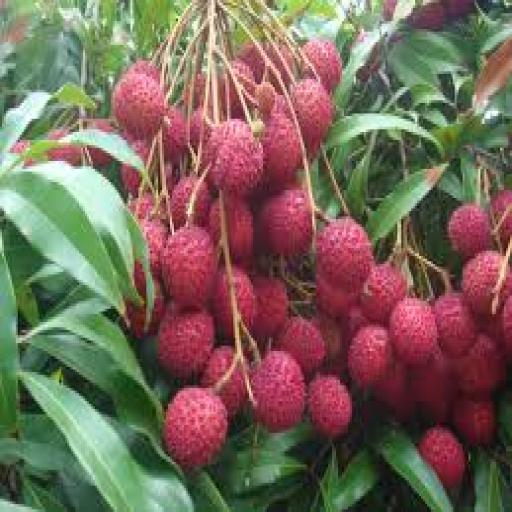lychee: (165, 388, 227, 469), (161, 227, 215, 308), (206, 119, 262, 197), (252, 352, 306, 432), (317, 217, 373, 290), (159, 309, 215, 380), (113, 72, 166, 139), (259, 188, 312, 255), (410, 349, 456, 424), (261, 109, 302, 190), (461, 251, 511, 316), (291, 80, 334, 155), (453, 336, 506, 395), (390, 299, 438, 364), (212, 267, 256, 337), (275, 317, 326, 377), (418, 428, 466, 488), (360, 264, 407, 324), (433, 293, 476, 358), (348, 325, 393, 387), (309, 375, 351, 438), (374, 362, 415, 422), (447, 204, 492, 258), (252, 278, 288, 343), (127, 280, 166, 337), (313, 312, 347, 377), (171, 175, 211, 229), (453, 399, 496, 446), (303, 40, 341, 92), (222, 59, 255, 118), (224, 198, 253, 263), (317, 272, 357, 319), (141, 220, 168, 277), (163, 106, 187, 166), (220, 365, 247, 416), (491, 191, 511, 248), (408, 0, 444, 31), (188, 109, 211, 153), (48, 143, 81, 166), (127, 59, 160, 81), (121, 164, 142, 195), (501, 296, 511, 358), (87, 148, 112, 168)
